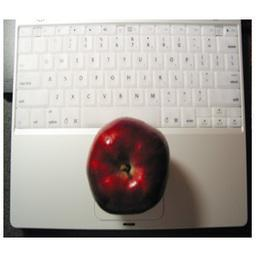apple: (86, 116, 169, 214)
